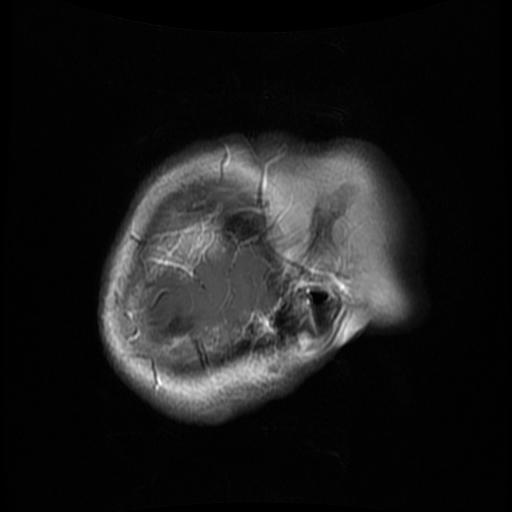glioma: (140, 210, 225, 287)
